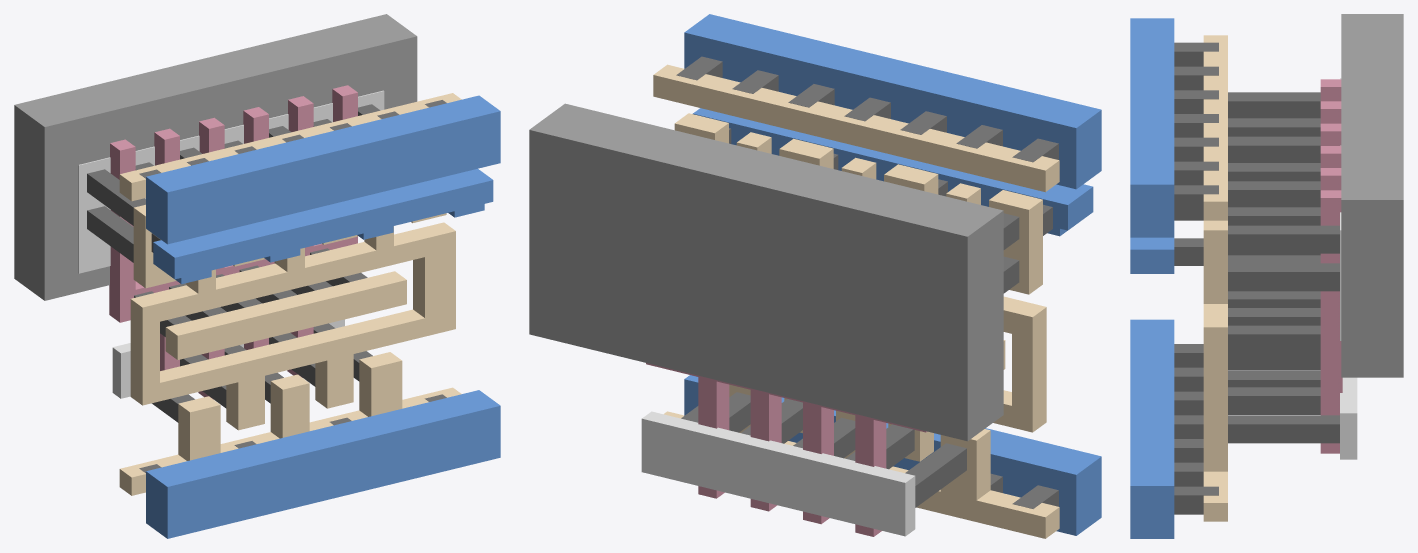
Rendered from sky130_fd_sc_hd__lpflow_clkinvkapwr_4.gds.gltf.
The picture shows the model from 3 angles, left to right: view 1: azimuth 30°, elevation 25°; view 2: azimuth 150°, elevation 25°; view 3: azimuth 270°, elevation 25°; orthographic projection. The views are drawn at different scales.
Visible parts, largest first — view 1: sky130_fd_sc_hd__lpflow_clkinvkapwr_4_met1, sky130_fd_sc_hd__lpflow_clkinvkapwr_4_li1, sky130_fd_sc_hd__lpflow_clkinvkapwr_4_nwell, sky130_fd_sc_hd__lpflow_clkinvkapwr_4_poly, sky130_fd_sc_hd__lpflow_clkinvkapwr_4_licon, sky130_fd_sc_hd__lpflow_clkinvkapwr_4_diff, sky130_fd_sc_hd__lpflow_clkinvkapwr_4_mcon; view 2: sky130_fd_sc_hd__lpflow_clkinvkapwr_4_nwell, sky130_fd_sc_hd__lpflow_clkinvkapwr_4_met1, sky130_fd_sc_hd__lpflow_clkinvkapwr_4_li1, sky130_fd_sc_hd__lpflow_clkinvkapwr_4_diff, sky130_fd_sc_hd__lpflow_clkinvkapwr_4_poly, sky130_fd_sc_hd__lpflow_clkinvkapwr_4_licon, sky130_fd_sc_hd__lpflow_clkinvkapwr_4_mcon; view 3: sky130_fd_sc_hd__lpflow_clkinvkapwr_4_licon, sky130_fd_sc_hd__lpflow_clkinvkapwr_4_nwell, sky130_fd_sc_hd__lpflow_clkinvkapwr_4_met1, sky130_fd_sc_hd__lpflow_clkinvkapwr_4_mcon, sky130_fd_sc_hd__lpflow_clkinvkapwr_4_li1, sky130_fd_sc_hd__lpflow_clkinvkapwr_4_poly, sky130_fd_sc_hd__lpflow_clkinvkapwr_4_diff.
Part boxes in pixels (bbox=[...]): sky130_fd_sc_hd__lpflow_clkinvkapwr_4_met1: bbox=[146, 95, 500, 538]; sky130_fd_sc_hd__lpflow_clkinvkapwr_4_li1: bbox=[119, 93, 461, 495]; sky130_fd_sc_hd__lpflow_clkinvkapwr_4_nwell: bbox=[14, 14, 417, 300]; sky130_fd_sc_hd__lpflow_clkinvkapwr_4_poly: bbox=[109, 85, 357, 399]; sky130_fd_sc_hd__lpflow_clkinvkapwr_4_licon: bbox=[87, 104, 380, 422]; sky130_fd_sc_hd__lpflow_clkinvkapwr_4_diff: bbox=[78, 90, 384, 398]; sky130_fd_sc_hd__lpflow_clkinvkapwr_4_mcon: bbox=[139, 100, 446, 472]; sky130_fd_sc_hd__lpflow_clkinvkapwr_4_nwell: bbox=[529, 103, 1003, 441]; sky130_fd_sc_hd__lpflow_clkinvkapwr_4_met1: bbox=[684, 14, 1101, 535]; sky130_fd_sc_hd__lpflow_clkinvkapwr_4_li1: bbox=[653, 64, 1059, 538]; sky130_fd_sc_hd__lpflow_clkinvkapwr_4_diff: bbox=[641, 411, 915, 536]; sky130_fd_sc_hd__lpflow_clkinvkapwr_4_poly: bbox=[646, 363, 926, 536]; sky130_fd_sc_hd__lpflow_clkinvkapwr_4_licon: bbox=[696, 213, 1019, 507]; sky130_fd_sc_hd__lpflow_clkinvkapwr_4_mcon: bbox=[676, 56, 1058, 508]; sky130_fd_sc_hd__lpflow_clkinvkapwr_4_licon: bbox=[1228, 92, 1339, 443]; sky130_fd_sc_hd__lpflow_clkinvkapwr_4_nwell: bbox=[1341, 14, 1403, 377]; sky130_fd_sc_hd__lpflow_clkinvkapwr_4_met1: bbox=[1130, 18, 1174, 538]; sky130_fd_sc_hd__lpflow_clkinvkapwr_4_mcon: bbox=[1174, 42, 1218, 514]; sky130_fd_sc_hd__lpflow_clkinvkapwr_4_li1: bbox=[1203, 35, 1227, 521]; sky130_fd_sc_hd__lpflow_clkinvkapwr_4_poly: bbox=[1320, 79, 1342, 453]; sky130_fd_sc_hd__lpflow_clkinvkapwr_4_diff: bbox=[1340, 78, 1357, 459].
Size of the model in its own units: 3.6 by 3.2 by 2.24.
